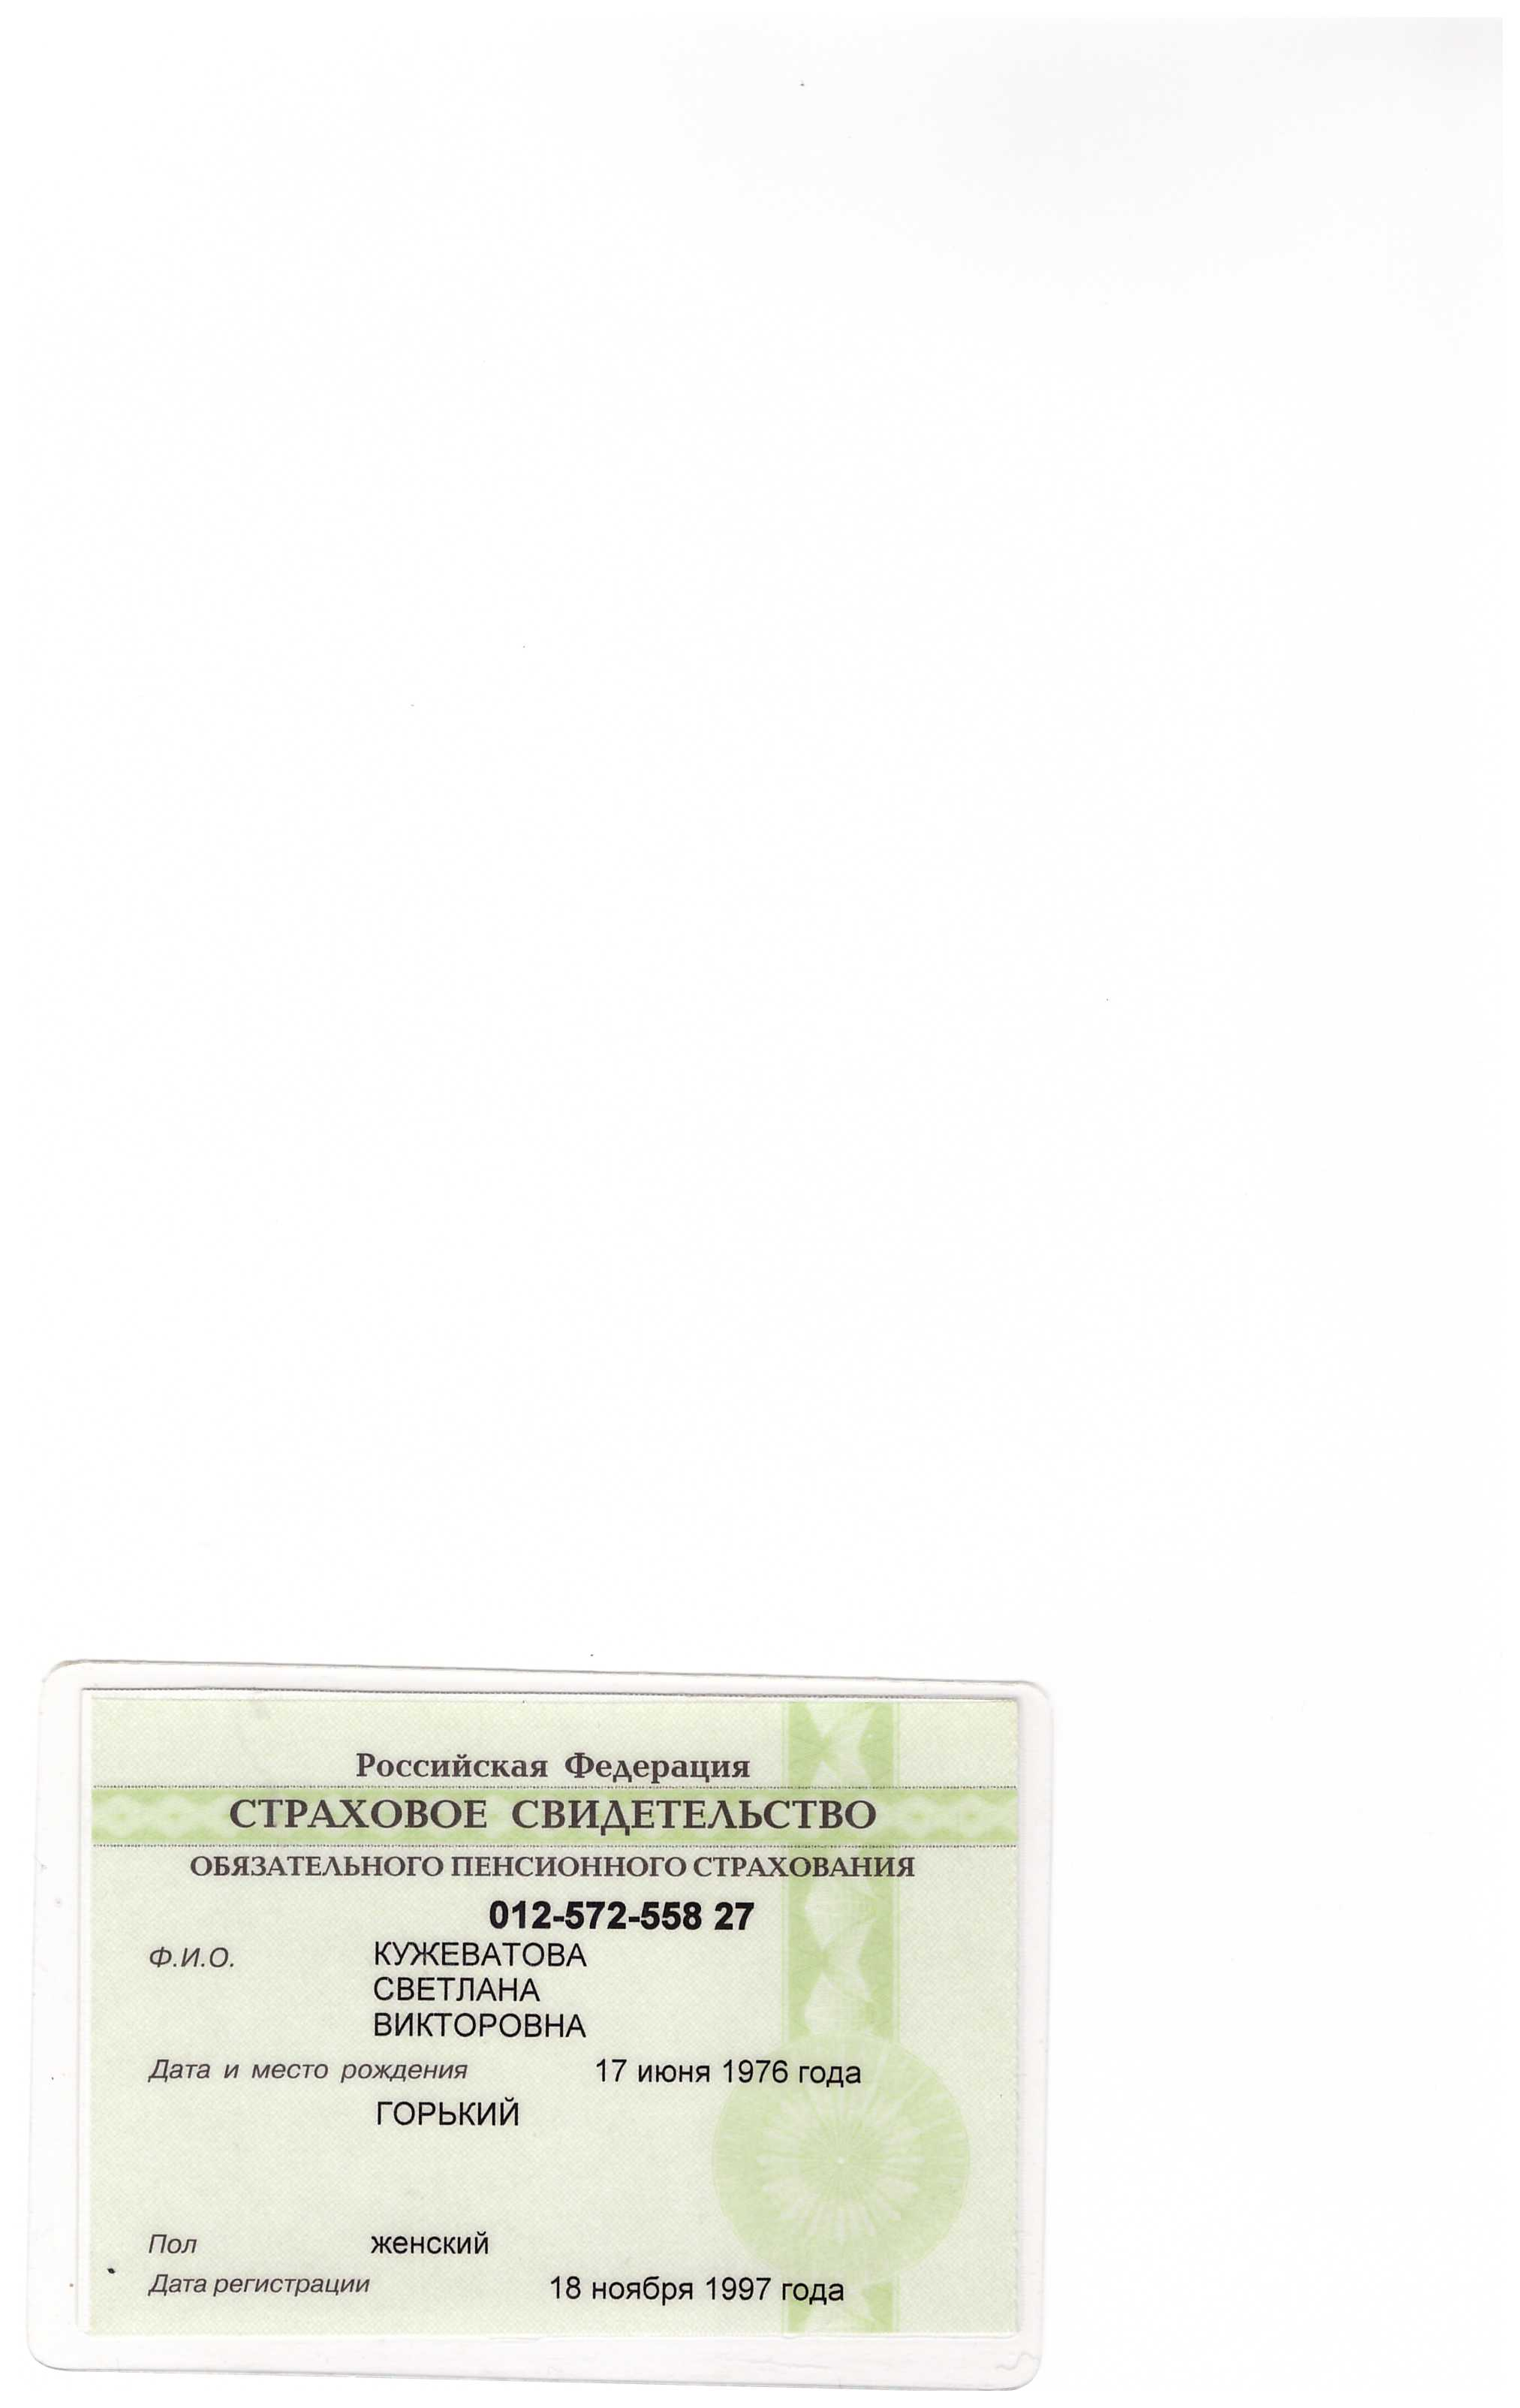text: (469, 1893, 767, 1940), (585, 2052, 863, 2096), (545, 2271, 851, 2308), (361, 1932, 599, 1970), (357, 2007, 590, 2042), (361, 1968, 555, 2005), (368, 2093, 518, 2131), (357, 2231, 503, 2261)
